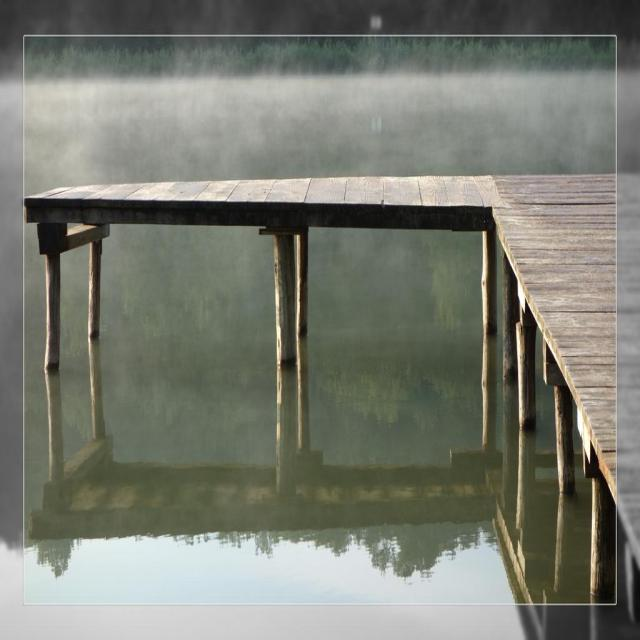table: (8, 154, 500, 416)
